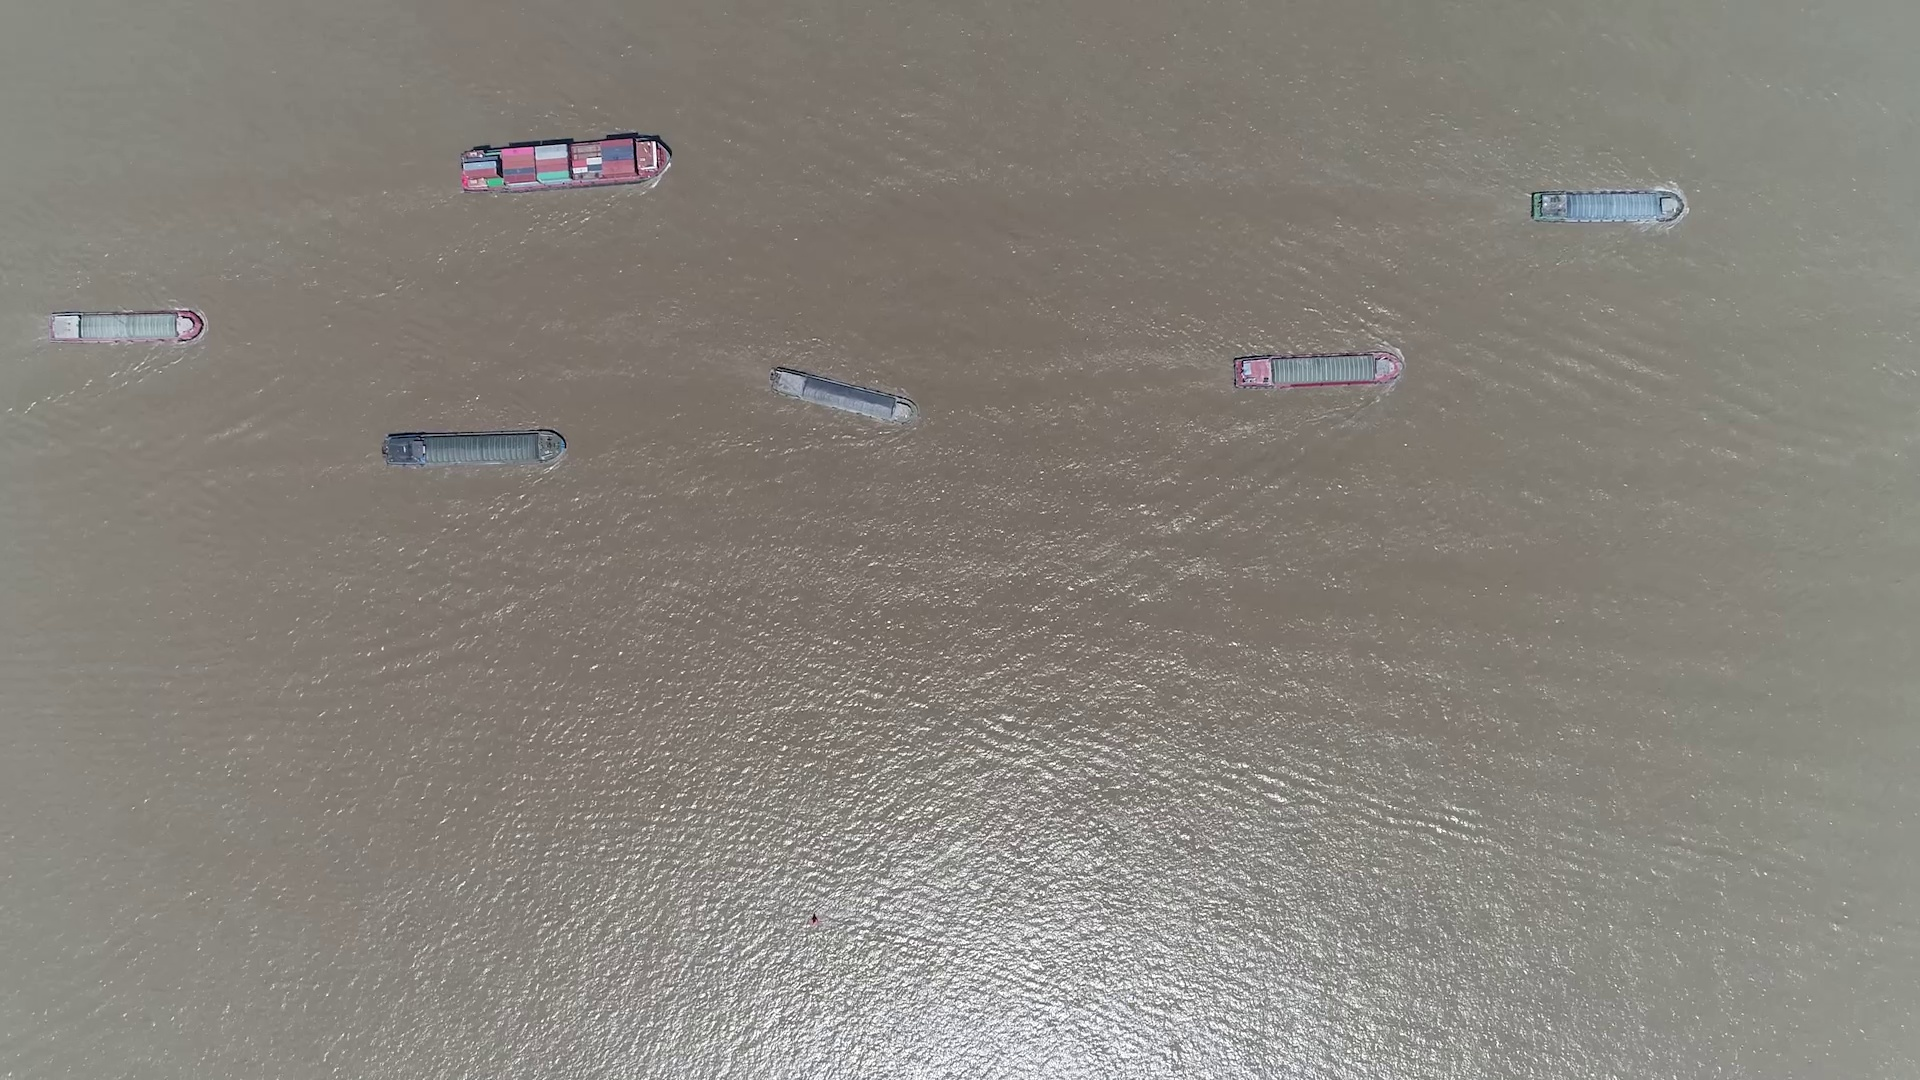ship: (459, 136, 671, 194), (769, 365, 915, 425), (384, 430, 564, 468), (1232, 353, 1402, 389), (1528, 191, 1683, 223), (47, 311, 202, 343)
